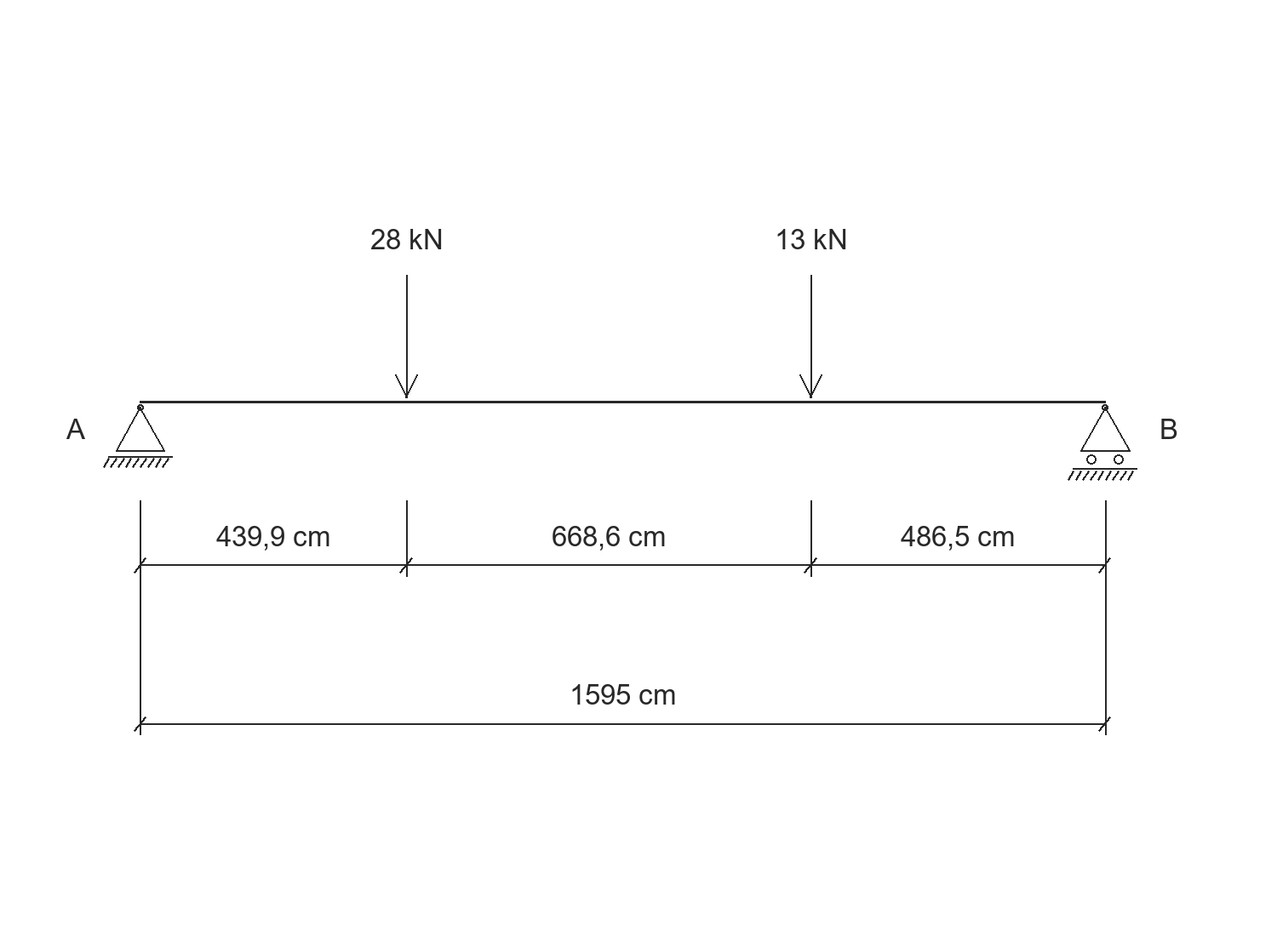pin_support: (103, 404, 173, 468)
point_load: (395, 275, 418, 398), (799, 275, 822, 398)
roller_support: (1068, 404, 1137, 481)
